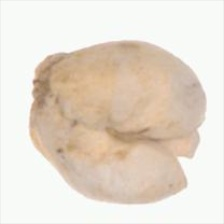L3: (166, 107, 207, 191)
L4: (27, 40, 208, 205)
